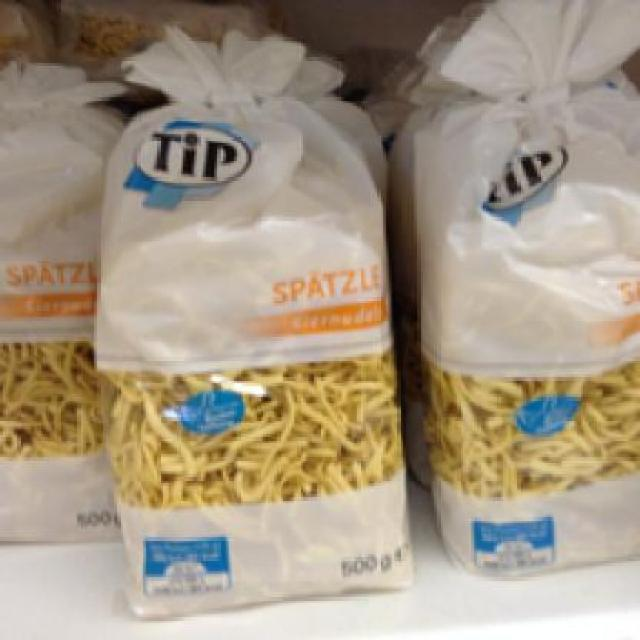Pasta: (92, 20, 414, 620), (384, 0, 638, 575)
